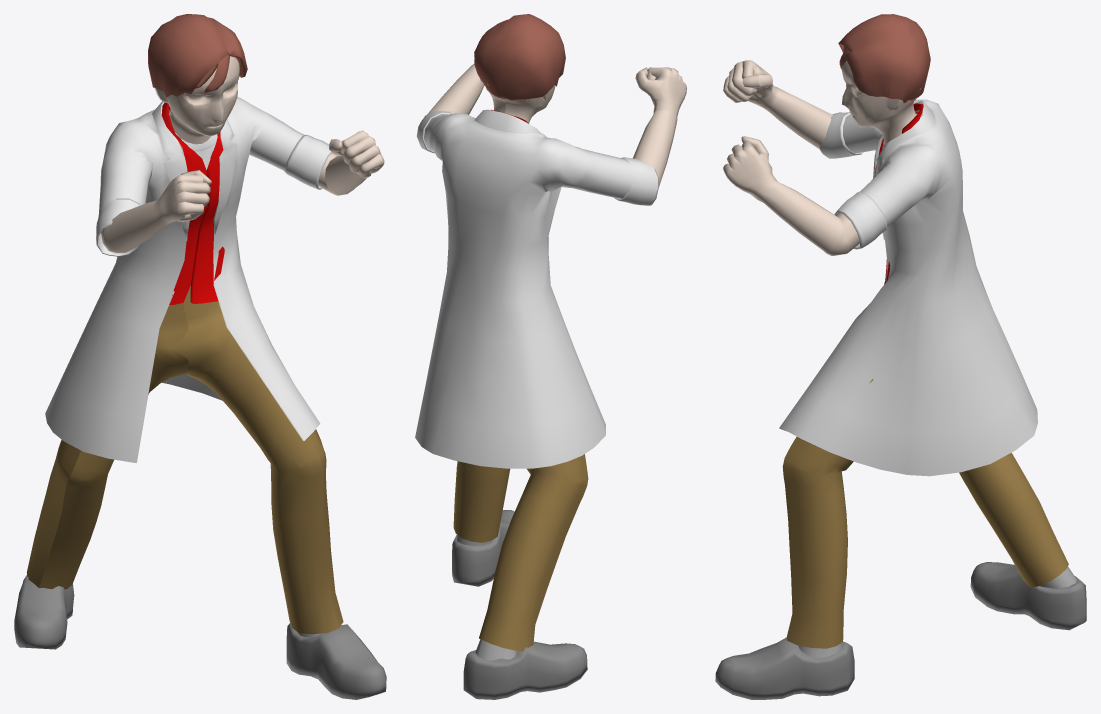
The model's file is IdlePose_meshOnly.fbx.
3 renders of one model, left to right at view 1: azimuth 30°, elevation 25°; view 2: azimuth 150°, elevation 25°; view 3: azimuth 270°, elevation 25°, orthographic. The views are drawn at different scales.
Visible parts, largest first — view 1: chara_rigged:hakui1, chara_rigged:zubon, chara_rigged:arm, chara_rigged:hair, chara_rigged:shoes_left, chara_rigged:checkerShirt, chara_rigged:chara_head, chara_rigged:shoes_right, chara_rigged:sode_left, chara_rigged:sode_right; view 2: chara_rigged:hakui1, chara_rigged:zubon, chara_rigged:hair, chara_rigged:shoes_right, chara_rigged:arm, chara_rigged:shoes_left, chara_rigged:sode_right, chara_rigged:chara_head, chara_rigged:pCylinder4; view 3: chara_rigged:hakui1, chara_rigged:zubon, chara_rigged:arm, chara_rigged:shoes_left, chara_rigged:hair, chara_rigged:shoes_right, chara_rigged:chara_head, chara_rigged:sode_left, chara_rigged:sode_right.
Boxes of the visible parts, left/top/right/bottom form: chara_rigged:hakui1: left=45, top=97, right=320, bottom=462; chara_rigged:zubon: left=26, top=286, right=343, bottom=634; chara_rigged:arm: left=101, top=130, right=384, bottom=253; chara_rigged:hair: left=148, top=14, right=247, bottom=97; chara_rigged:shoes_left: left=286, top=623, right=386, bottom=699; chara_rigged:checkerShirt: left=169, top=106, right=224, bottom=304; chara_rigged:chara_head: left=154, top=56, right=239, bottom=144; chara_rigged:shoes_right: left=14, top=575, right=74, bottom=649; chara_rigged:sode_left: left=284, top=135, right=335, bottom=189; chara_rigged:sode_right: left=96, top=198, right=140, bottom=256; chara_rigged:hakui1: left=415, top=109, right=657, bottom=468; chara_rigged:zubon: left=453, top=454, right=588, bottom=651; chara_rigged:hair: left=474, top=14, right=565, bottom=100; chara_rigged:shoes_right: left=463, top=641, right=587, bottom=699; chara_rigged:arm: left=420, top=64, right=686, bottom=188; chara_rigged:shoes_left: left=452, top=510, right=514, bottom=586; chara_rigged:sode_right: left=614, top=157, right=658, bottom=205; chara_rigged:chara_head: left=480, top=79, right=555, bottom=123; chara_rigged:pCylinder4: left=475, top=639, right=516, bottom=660; chara_rigged:hakui1: left=779, top=99, right=1037, bottom=476; chara_rigged:zubon: left=782, top=378, right=1068, bottom=648; chara_rigged:arm: left=723, top=60, right=859, bottom=255; chara_rigged:shoes_left: left=715, top=637, right=854, bottom=699; chara_rigged:hair: left=838, top=14, right=930, bottom=103; chara_rigged:shoes_right: left=970, top=562, right=1086, bottom=630; chara_rigged:chara_head: left=841, top=60, right=920, bottom=144; chara_rigged:sode_left: left=834, top=191, right=887, bottom=249; chara_rigged:sode_right: left=818, top=112, right=863, bottom=158.
Bounding box in the file's own units: 65.86 × 158 × 84.37.
